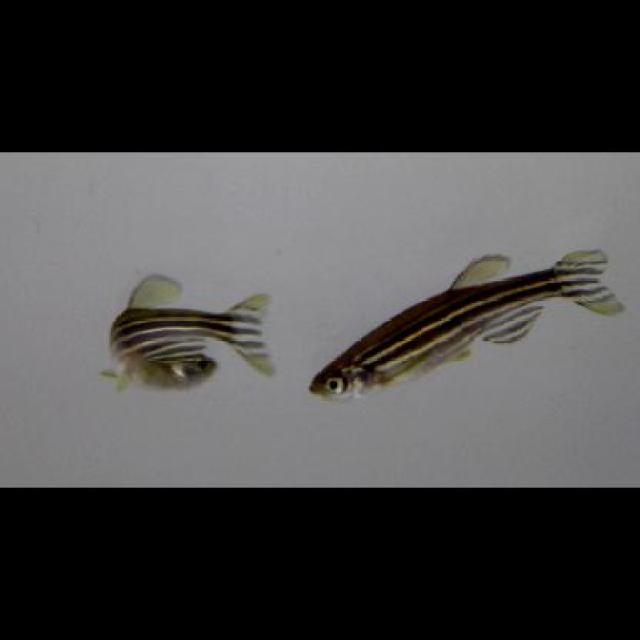ZebraFish: (307, 246, 618, 397)
